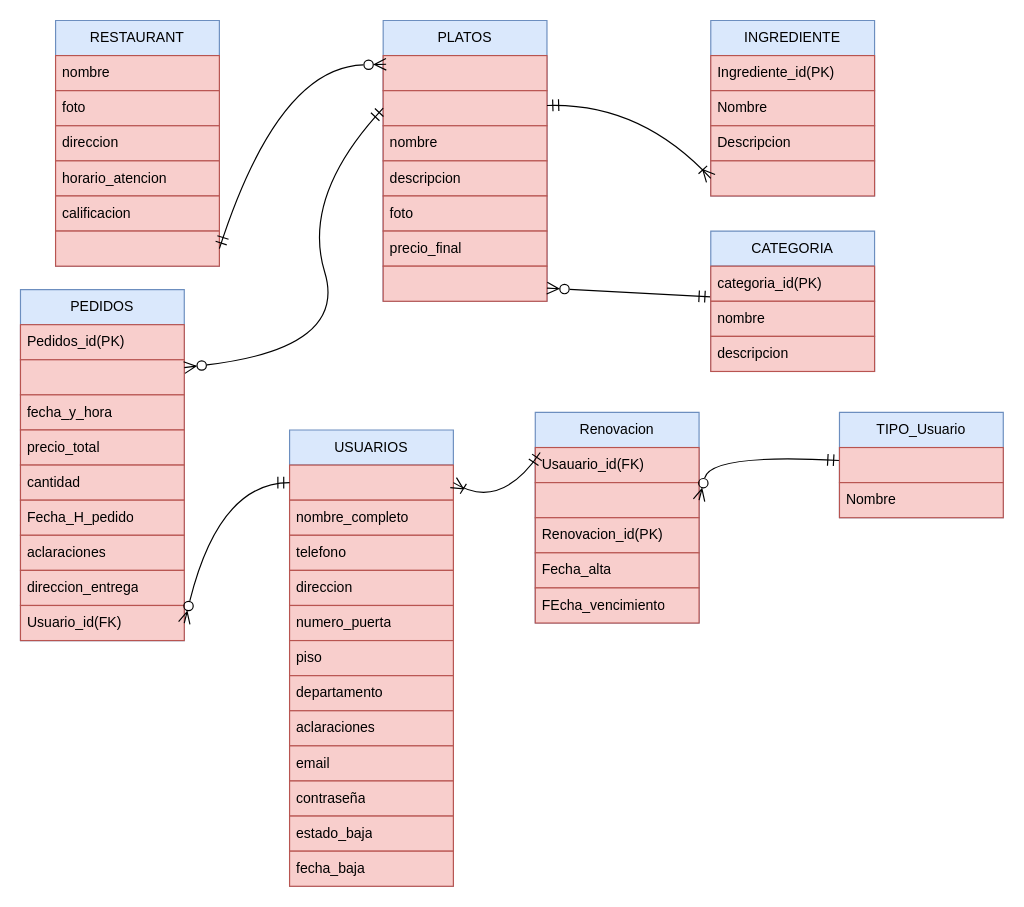
Image size: 1024x907. Some labels were removed from this diagram. The shapes that lost their labels are listed below. From the top down, each one's centre as x and y in pixels, then its label:
the point at 464,72: restaurant_id(FK)
the point at 464,108: platos_id(PK)
the point at 792,178: platos_id(FK)
the point at 136,248: restaurant_id(PK)
the point at 464,283: categoria_id (FK)
the point at 101,377: Plato_id(FK)
the point at 370,482: Usuario_id(PK)
the point at 920,464: Tipo_usuario(PK)
the point at 616,499: Tipo_usuario(FK)
